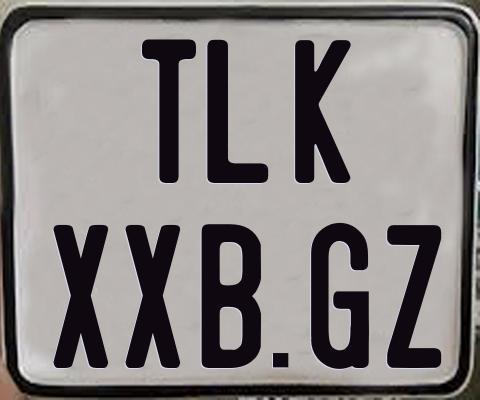B: (200, 223, 260, 373)
G: (309, 221, 370, 370)
K: (292, 39, 354, 188)
L: (206, 37, 271, 185)
T: (142, 36, 197, 183)
X: (50, 224, 109, 371), (122, 224, 180, 370)
Z: (385, 222, 443, 369)
